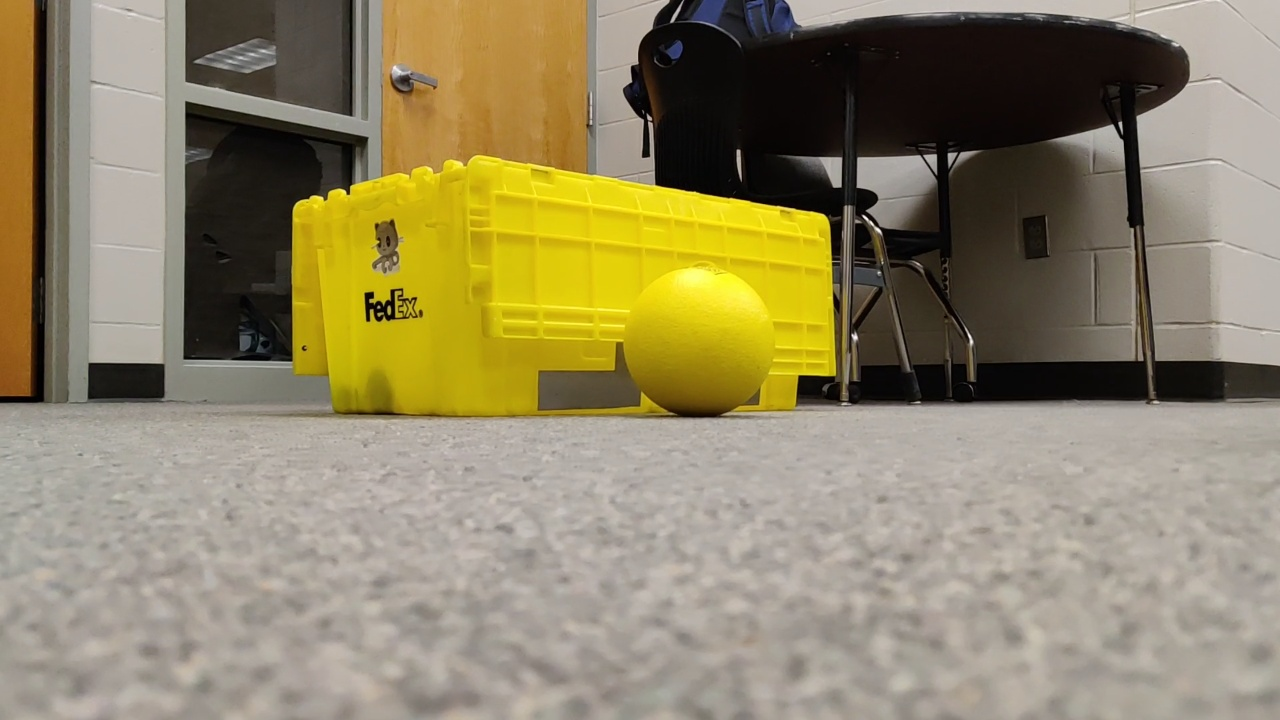Ball: (625, 264, 786, 422)
